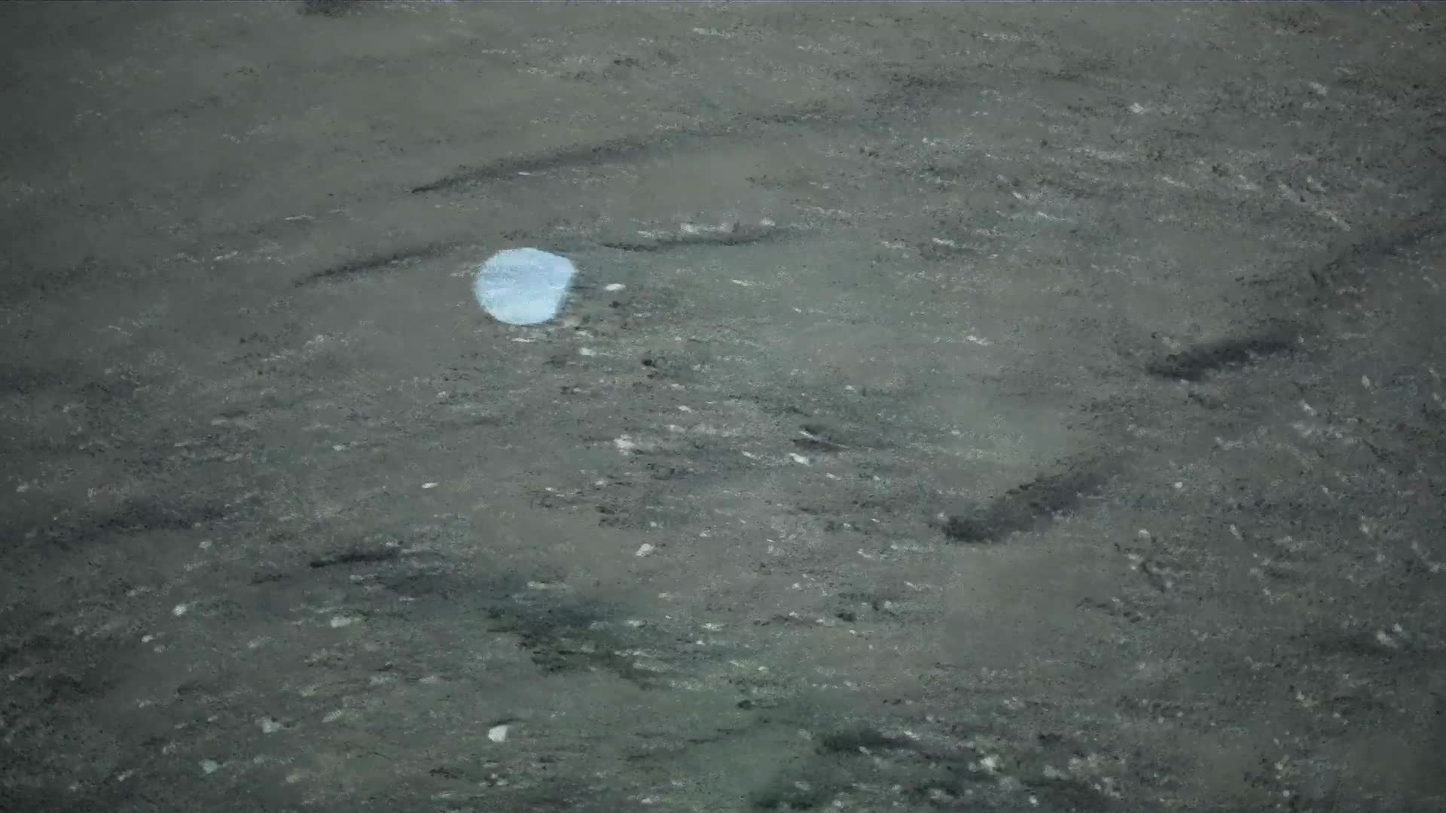Target: (462, 243, 581, 328)
